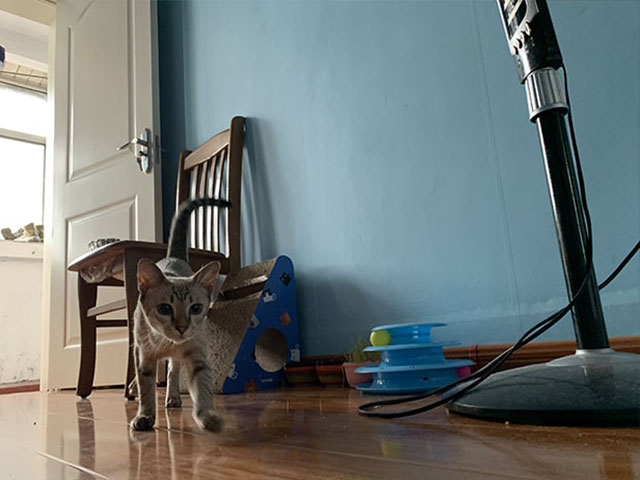stool: (65, 113, 247, 402)
wire: (357, 289, 588, 420)
